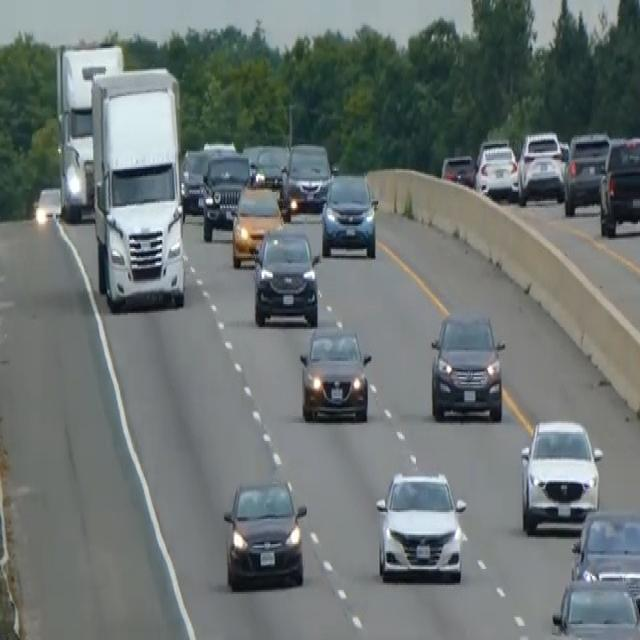car: (374, 468, 466, 583), (519, 416, 603, 533), (222, 475, 307, 590), (429, 309, 505, 423), (298, 322, 371, 423), (251, 222, 320, 327), (570, 507, 639, 606), (550, 576, 639, 638), (320, 170, 378, 258), (199, 151, 253, 240), (230, 178, 284, 266), (598, 134, 639, 236), (180, 141, 235, 215), (563, 130, 610, 215), (281, 140, 332, 212), (517, 130, 566, 204), (474, 137, 518, 201), (180, 146, 209, 213), (254, 142, 288, 188), (440, 151, 475, 187), (33, 185, 62, 226)
lorry: (89, 64, 186, 311)
